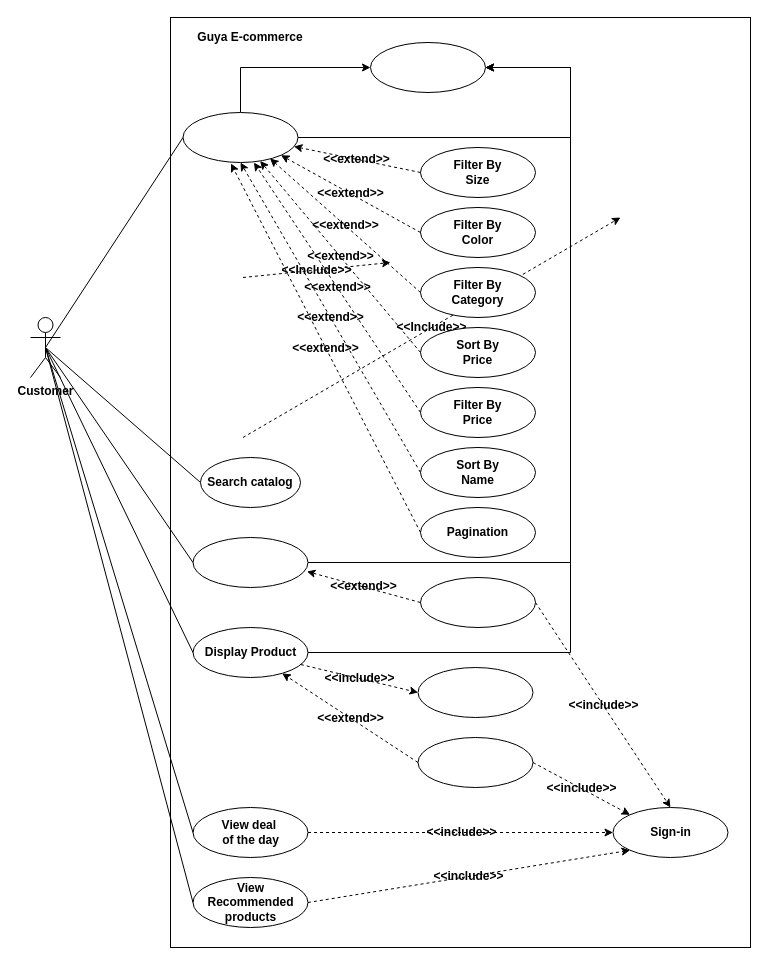
Image size: 768x965. Some labels were removed from this diagram. Here are the shapes that lost their labels. From the top down, the box of each, then its label:
(370, 42, 486, 92): Browse Catalogs {abstract}
(182, 112, 298, 162): List Products
(192, 536, 308, 588): View Store
(420, 576, 536, 628): Rate Store
(417, 666, 533, 718): View Reviews
(417, 736, 533, 788): Write Reviews
